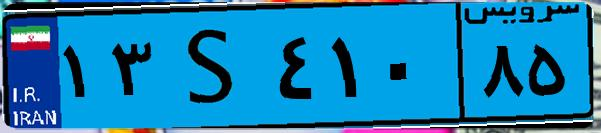0: (385, 28, 445, 110)
1: (330, 28, 385, 110), (57, 26, 110, 100)
3: (110, 28, 158, 98)
4: (270, 28, 330, 110)
5: (525, 38, 570, 115)
8: (475, 38, 525, 113)
S: (158, 12, 270, 120)
